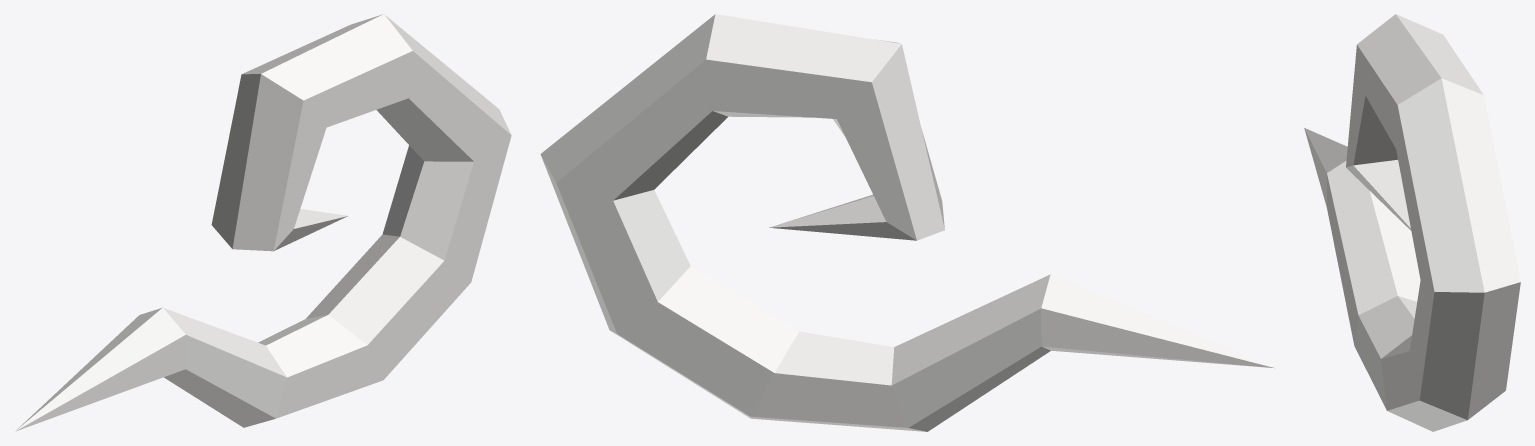
File: Isl_13_Cloud_2.fbx
3 views of the same model, side by side, from view 1: azimuth 30°, elevation 25°; view 2: azimuth 150°, elevation 25°; view 3: azimuth 270°, elevation 25° (orthographic). The views are drawn at different scales.
Visible parts, largest first — view 1: Isl_13_Cloud_2; view 2: Isl_13_Cloud_2; view 3: Isl_13_Cloud_2.
Boxes of the visible parts, bbox=[...] form: Isl_13_Cloud_2: bbox=[15, 14, 511, 431]; Isl_13_Cloud_2: bbox=[540, 14, 1274, 431]; Isl_13_Cloud_2: bbox=[1304, 14, 1520, 431].
Bounding box in the file's own units: 430 × 138 × 259.
Materials: 1 (1 with a texture image).
